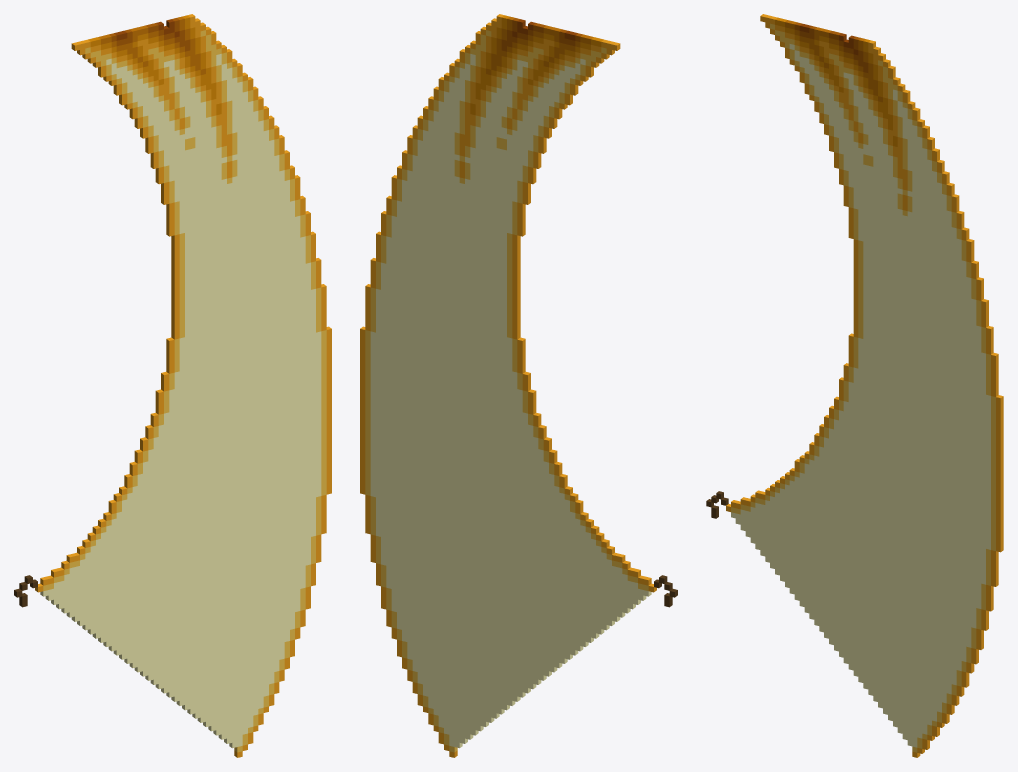
File: Fight_714_2_04_fx.obj
The picture shows the model from 3 angles, left to right: view 1: azimuth 30°, elevation 25°; view 2: azimuth 150°, elevation 25°; view 3: azimuth 330°, elevation 25°; orthographic projection. The views are drawn at different scales.
Bounding box in the file's own units: 6 × 13.7 × 0.1.
Materials: 1 (1 with a texture image).
